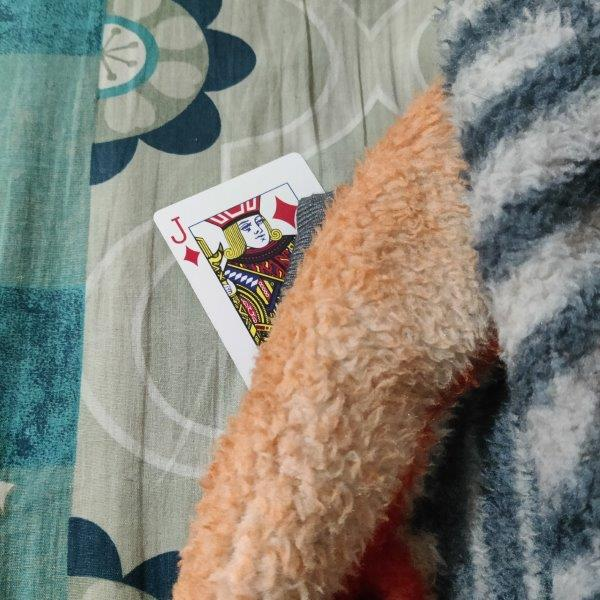Jack of Diamonds: (151, 151, 328, 393)
